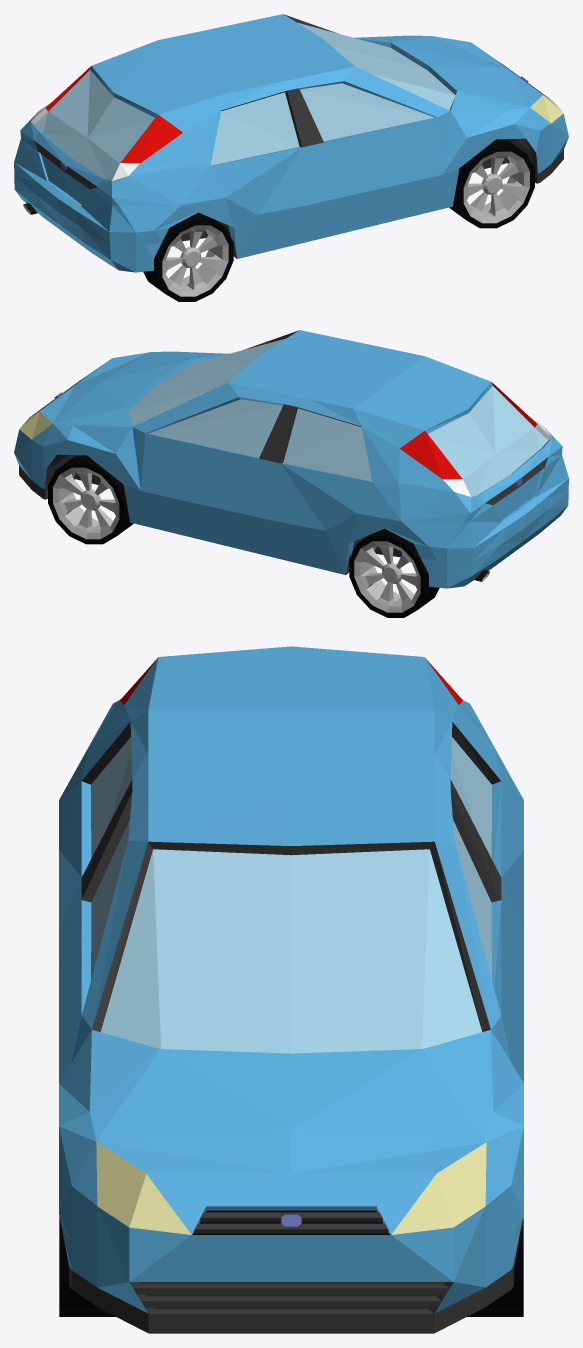
The picture shows the model from 3 angles, top to bottom: view 1: azimuth 30°, elevation 25°; view 2: azimuth 150°, elevation 25°; view 3: azimuth 270°, elevation 25°; orthographic projection. The views are drawn at different scales.
Visible parts, largest first — view 1: Body_0, wheel_bl, wheel_fr; view 2: Body_0, wheel_br, wheel_fl; view 3: Body_0, wheel_fr, wheel_fl.
Boxes of the visible parts, left/top/right/bottom form: Body_0: left=14, top=14, right=568, bottom=272; wheel_bl: left=143, top=212, right=233, bottom=301; wheel_fr: left=449, top=139, right=534, bottom=228; Body_0: left=14, top=330, right=568, bottom=588; wheel_br: left=349, top=528, right=439, bottom=617; wheel_fl: left=48, top=455, right=133, bottom=544; Body_0: left=59, top=646, right=523, bottom=1333; wheel_fr: left=59, top=1217, right=115, bottom=1316; wheel_fl: left=467, top=1217, right=523, bottom=1316.
Size of the model in its own units: 4.29 by 1.56 by 1.83.
